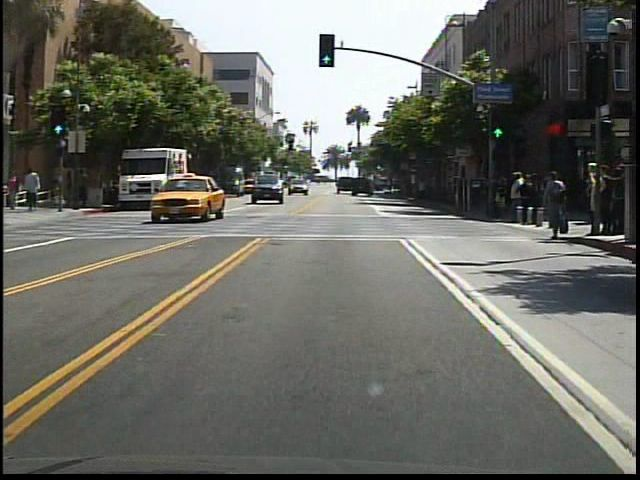person: (540, 167, 570, 241), (507, 166, 525, 226), (25, 164, 46, 214), (78, 168, 94, 210), (9, 172, 25, 213), (65, 169, 77, 206)
